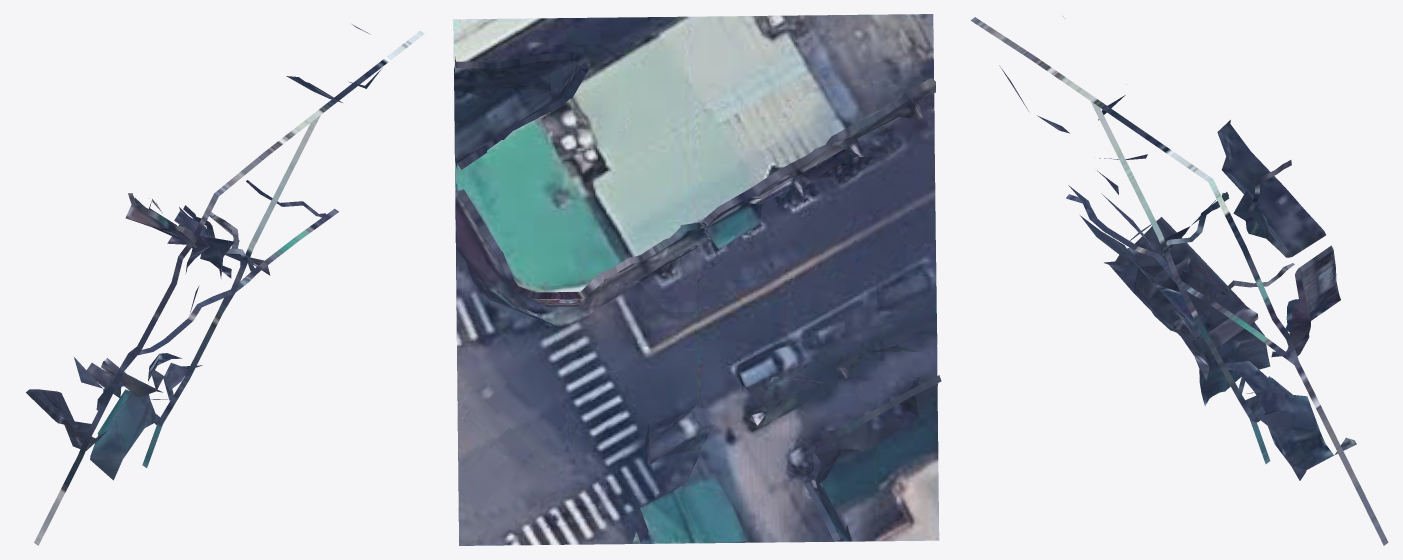
3 renders of one model, left to right at view 1: azimuth 30°, elevation 25°; view 2: azimuth 150°, elevation 25°; view 3: azimuth 270°, elevation 25°, orthographic. The views are drawn at different scales.
Bounding box in the file's own units: 38.7 × 35.2 × 32.06.
1 material, 1 textured.
